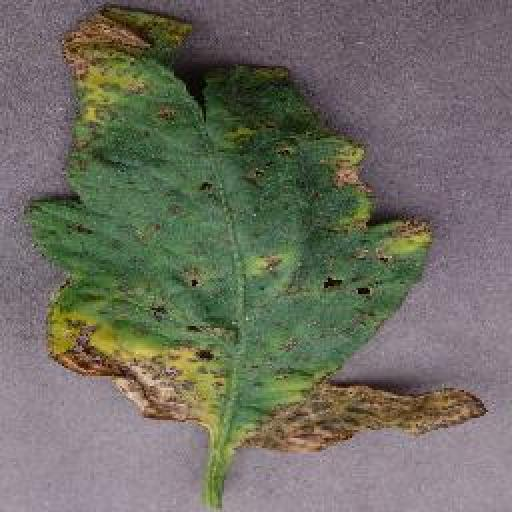Bacterial Spot: (20, 2, 493, 462)
